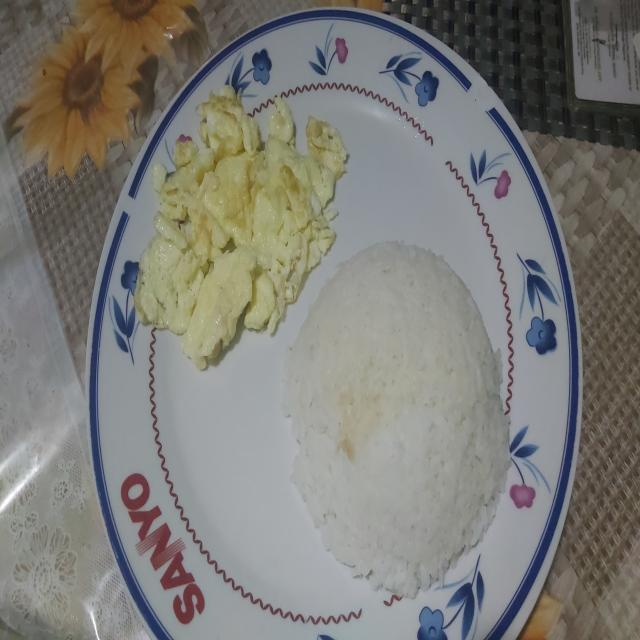Chicken -Chicken Inasal-: (291, 237, 507, 572)
